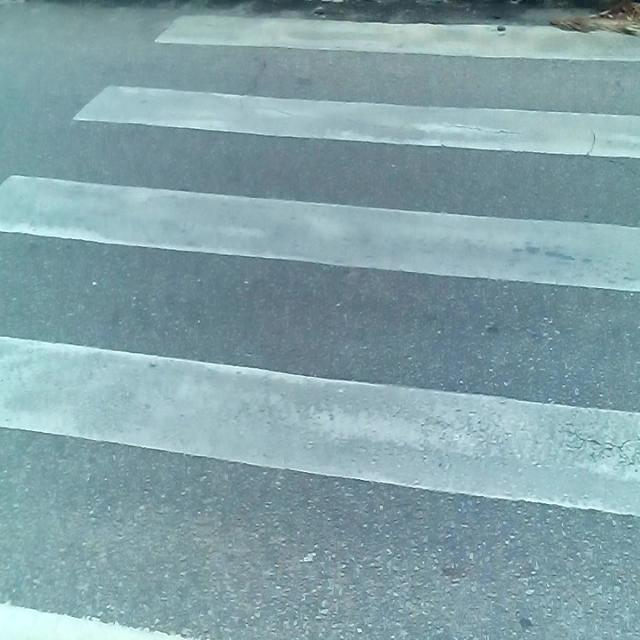crosswalk: (0, 1, 640, 640)
